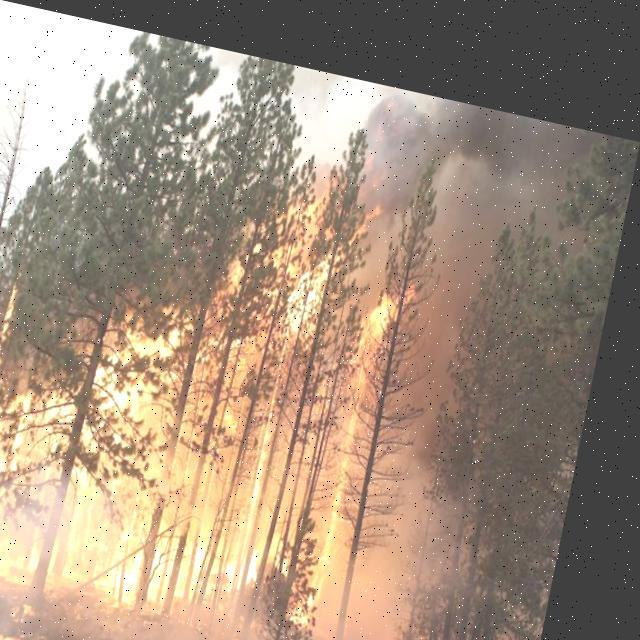Fire: (0, 99, 427, 636)
